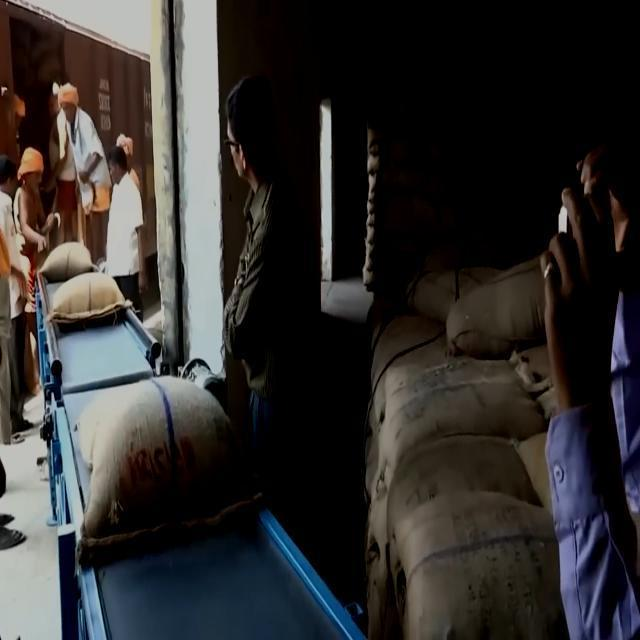gunny_bag: (76, 369, 266, 569), (397, 493, 574, 640), (383, 433, 541, 541), (381, 377, 539, 482), (441, 254, 546, 364), (448, 253, 549, 364), (402, 261, 507, 329), (384, 89, 477, 148), (45, 276, 133, 334), (361, 235, 439, 299), (378, 156, 464, 214), (376, 188, 446, 255), (484, 140, 570, 186), (466, 85, 528, 143), (448, 158, 504, 212), (34, 240, 98, 278)
